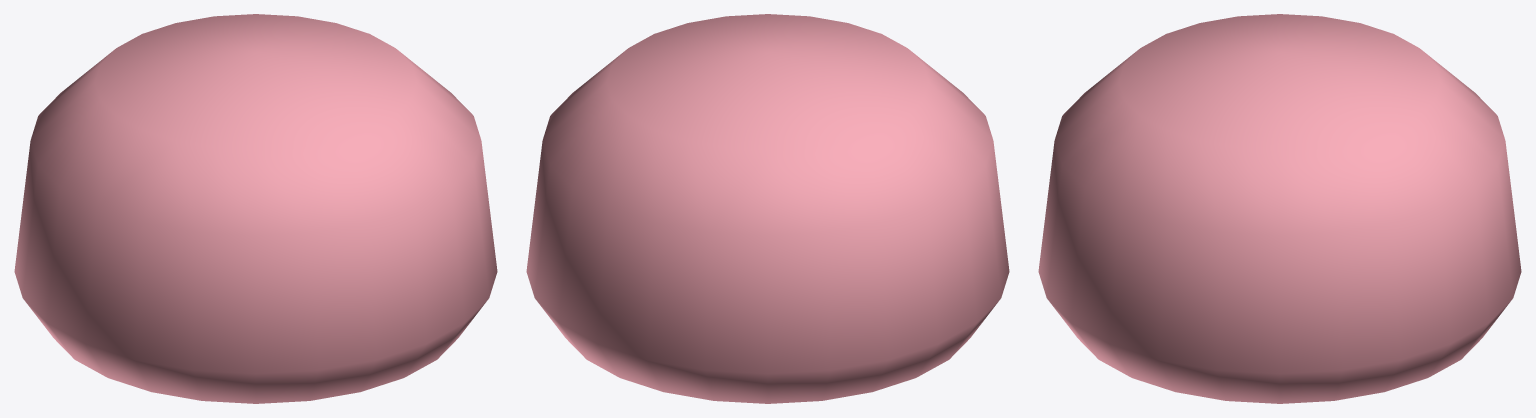
The model's file is GummyLamp.fbx.
3 views of the same model, side by side, from view 1: azimuth 30°, elevation 25°; view 2: azimuth 150°, elevation 25°; view 3: azimuth 270°, elevation 25° (orthographic).
Parts seen in each view (by area): view 1: Candy status lamp; view 2: Candy status lamp; view 3: Candy status lamp.
Boxes of the visible parts, <box> form: Candy status lamp: <box>14,14,497,403</box>; Candy status lamp: <box>526,14,1009,403</box>; Candy status lamp: <box>1038,14,1521,403</box>.
Bounding box in the file's own units: 0.03 × 0.018 × 0.03.
